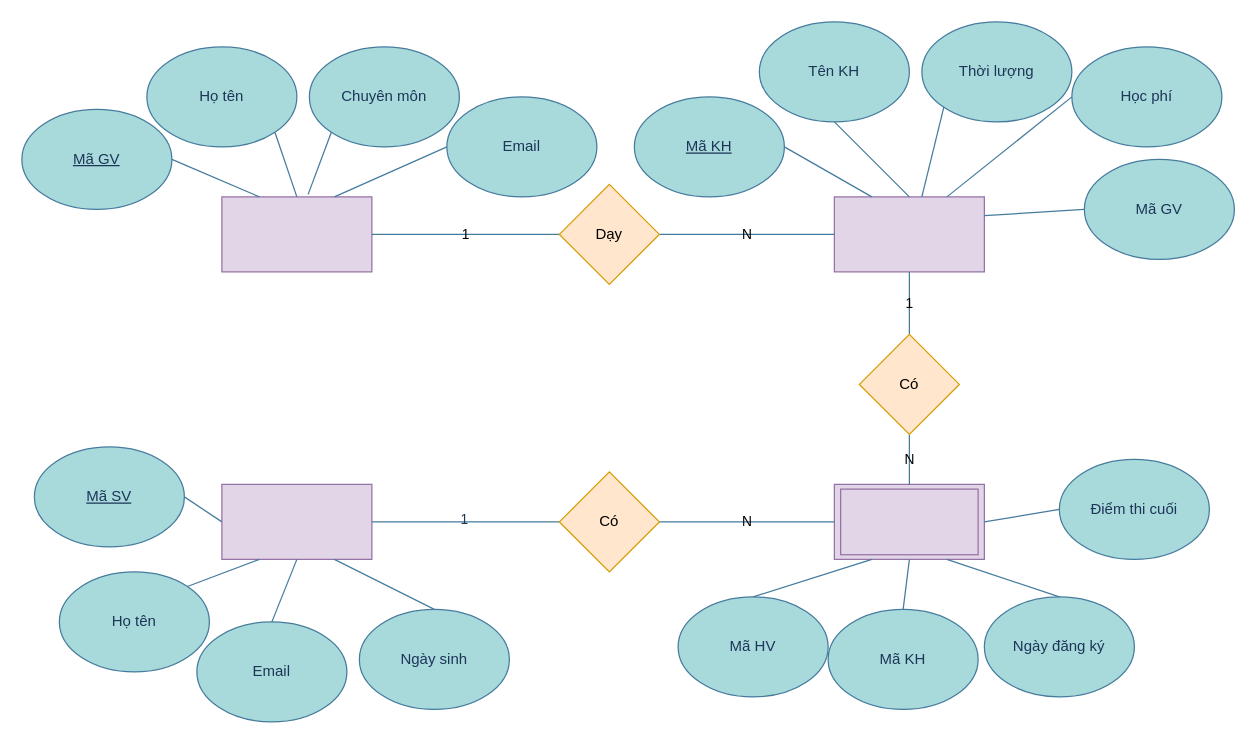
This 1256x744 diagram has some shape labels left out. Each missing label, with the centre of its shape:
"Course" belongs at point 908,234.
"Enrollment" belongs at point 908,521.
"Instructor" belongs at point 296,234.
"Student" belongs at point 296,521.
